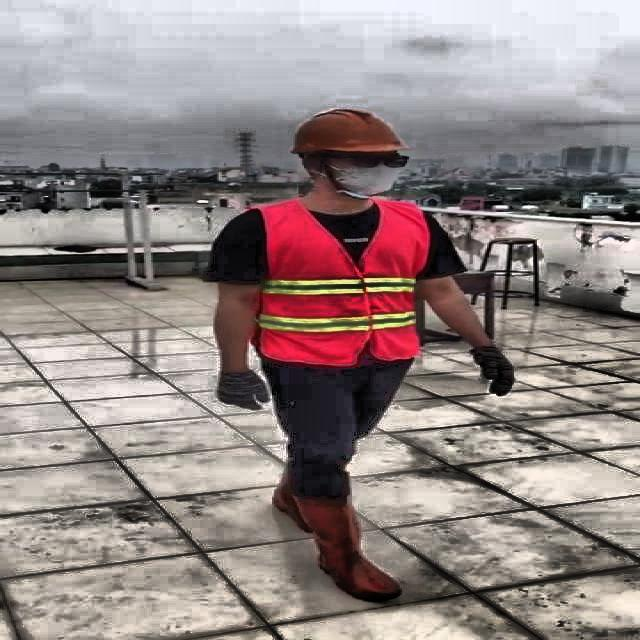safety_helmet: (279, 103, 407, 155)
safety_jacket: (249, 201, 423, 364)
